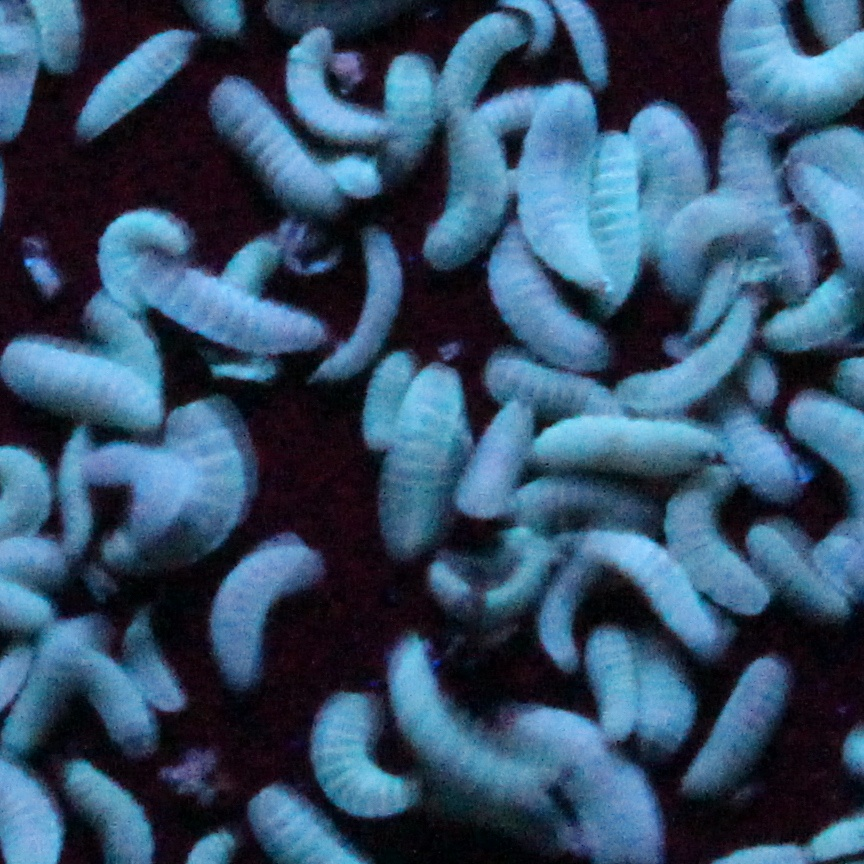larve: (392, 636, 572, 828), (120, 234, 332, 364), (522, 87, 619, 299), (139, 396, 250, 574), (489, 212, 614, 369), (210, 523, 323, 693), (582, 532, 727, 662), (612, 304, 769, 419), (316, 218, 412, 394), (214, 76, 340, 208), (382, 354, 462, 560), (63, 436, 192, 555), (309, 688, 424, 819), (657, 479, 762, 612), (80, 24, 202, 138), (2, 616, 102, 754), (429, 107, 512, 272), (642, 182, 764, 289), (634, 102, 709, 272), (286, 28, 400, 138), (524, 417, 734, 474), (692, 659, 789, 782), (482, 352, 634, 429), (744, 522, 852, 627), (577, 139, 654, 272), (100, 208, 192, 314), (72, 649, 158, 755), (579, 602, 642, 739), (459, 402, 529, 519), (717, 124, 784, 239), (382, 58, 442, 178), (497, 512, 569, 609), (362, 336, 418, 460), (444, 19, 524, 97), (128, 613, 187, 715), (54, 427, 97, 565), (218, 232, 278, 316), (647, 662, 684, 739), (429, 557, 477, 609)
